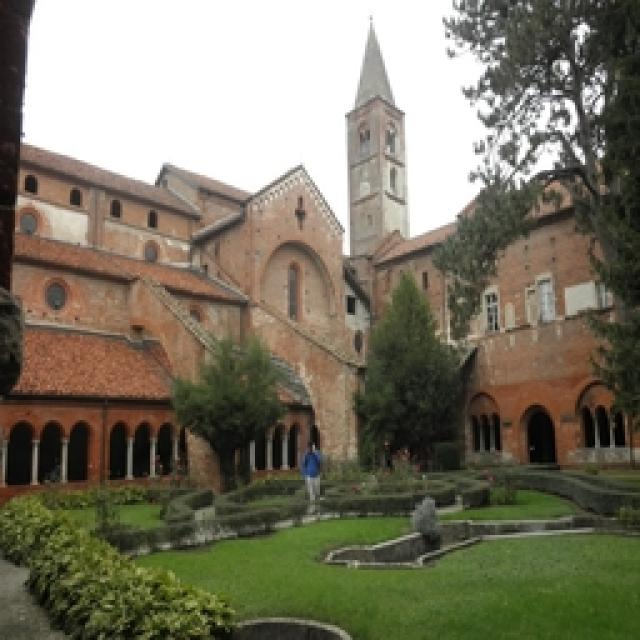Abbey: (176, 83, 437, 503)
